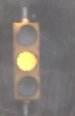Yellow: (8, 14, 56, 105)
